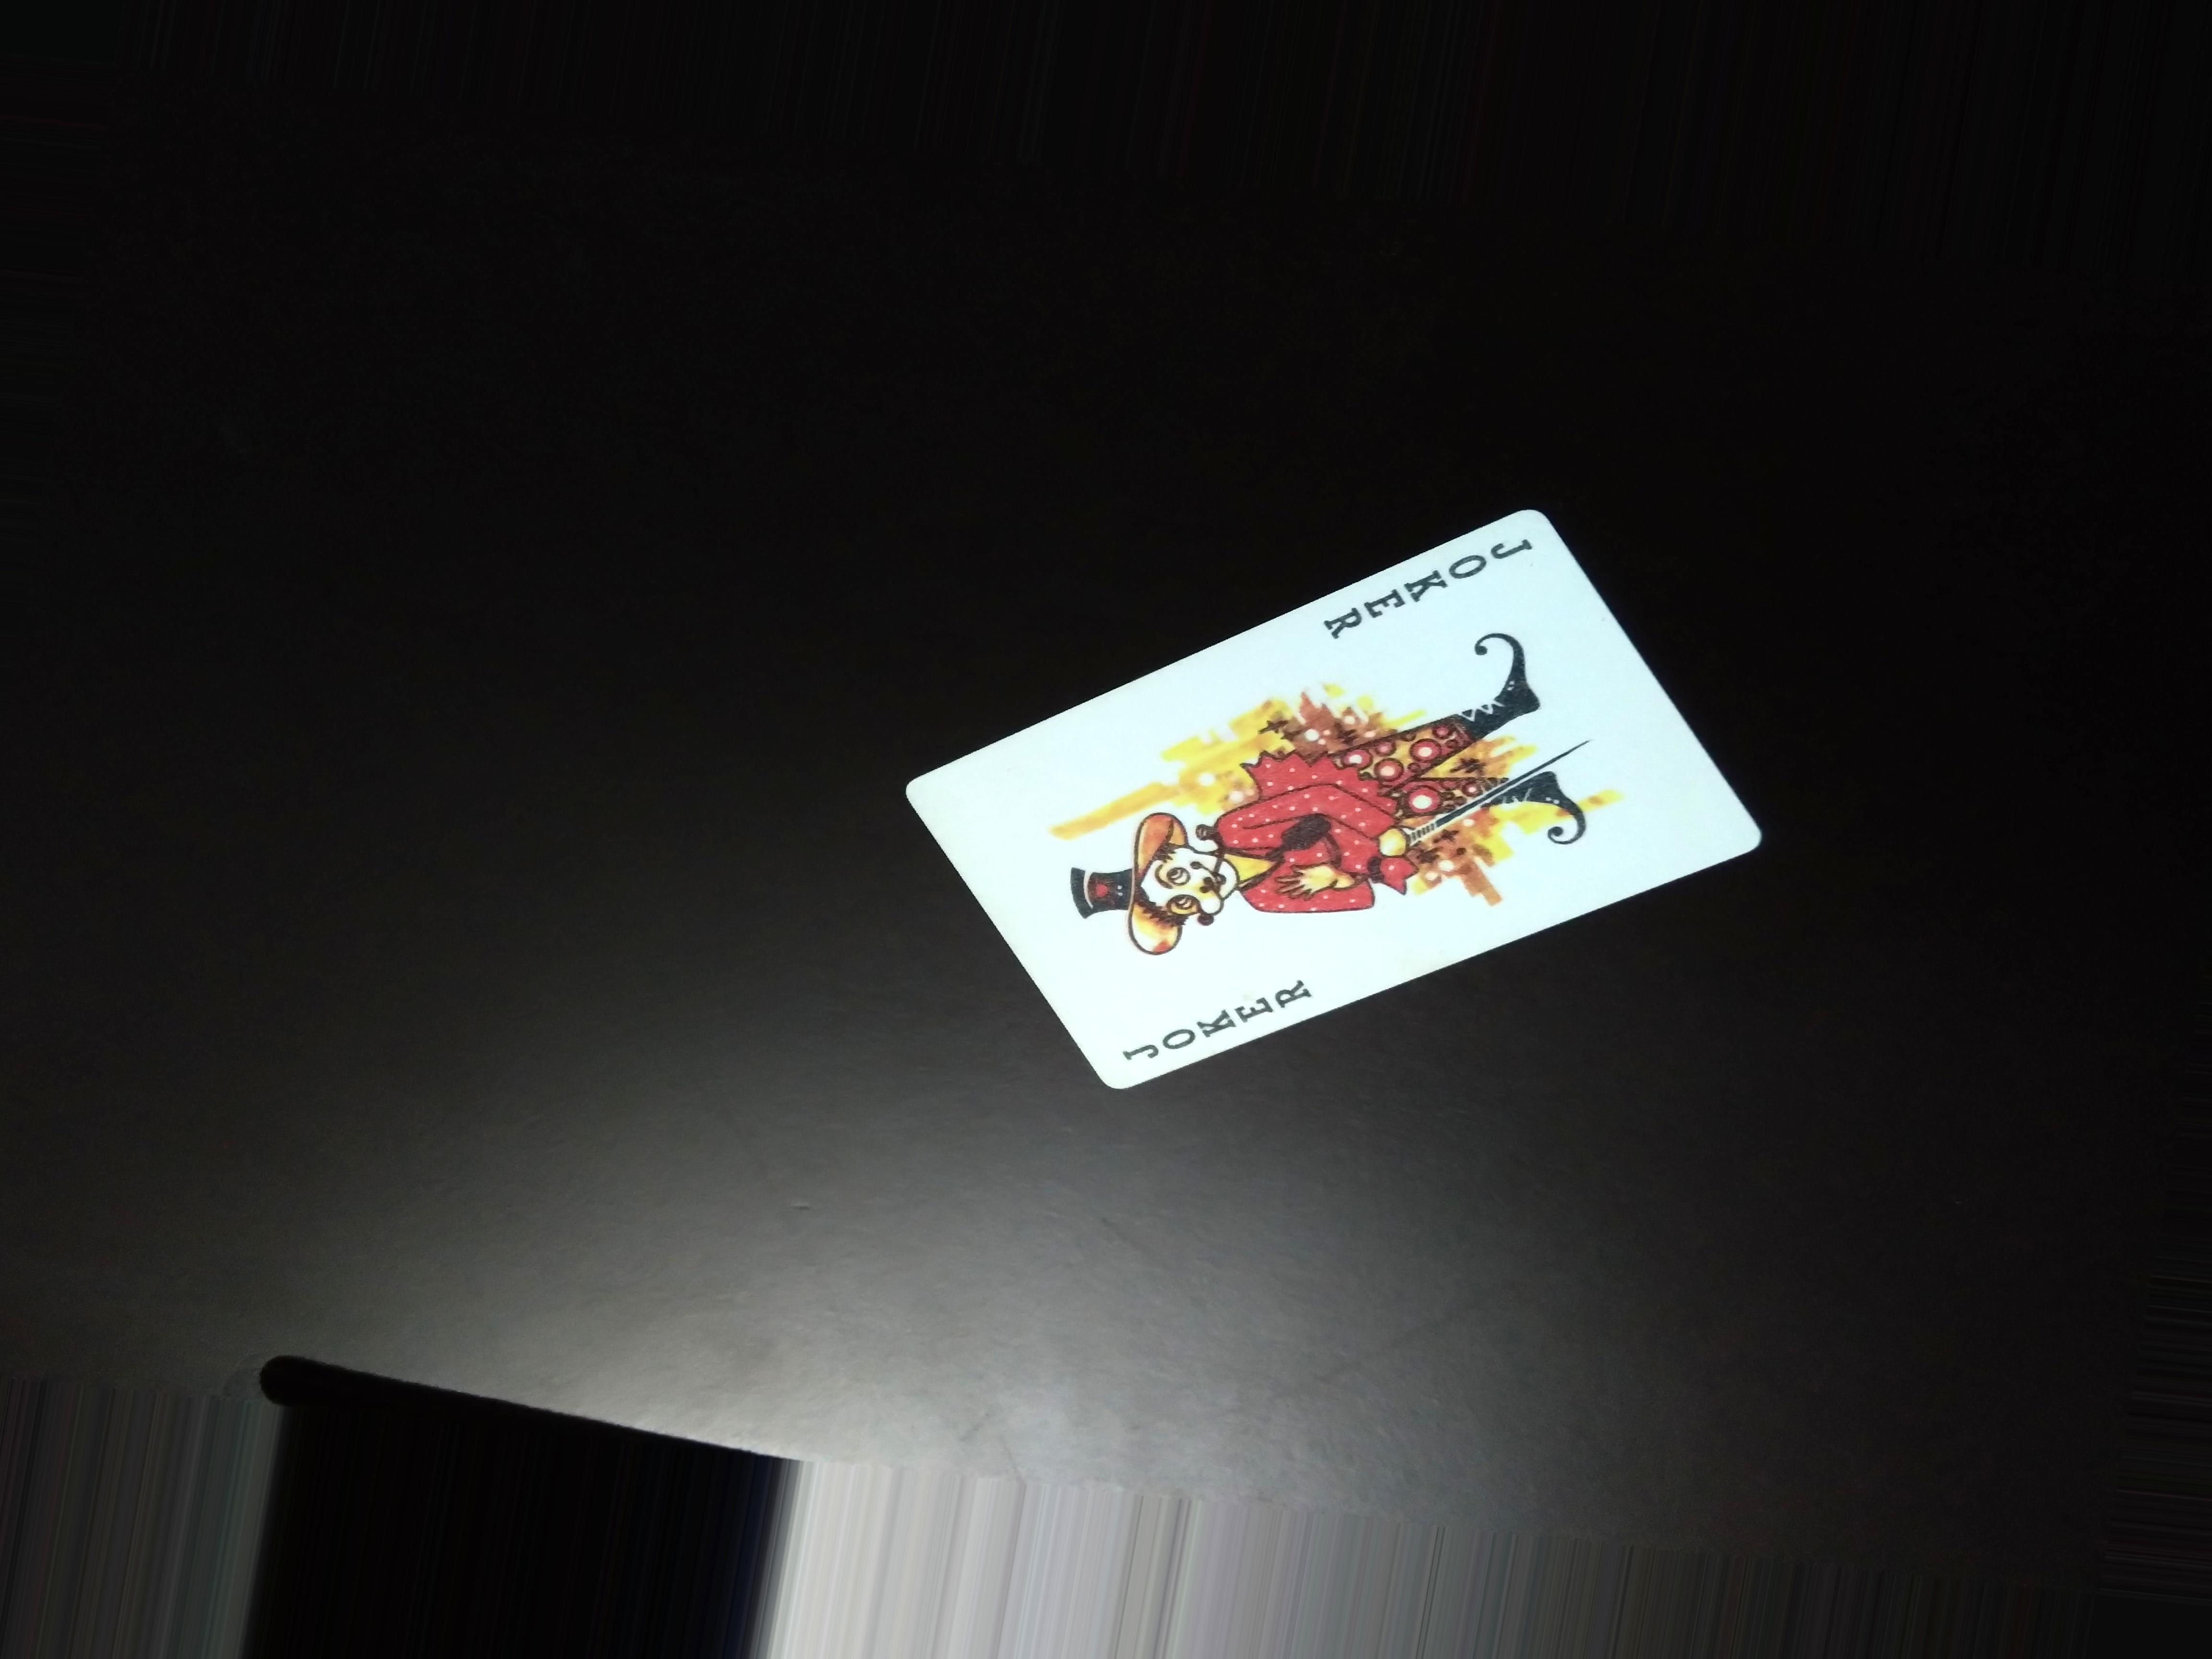JOKER: (1108, 974, 1336, 1077)
